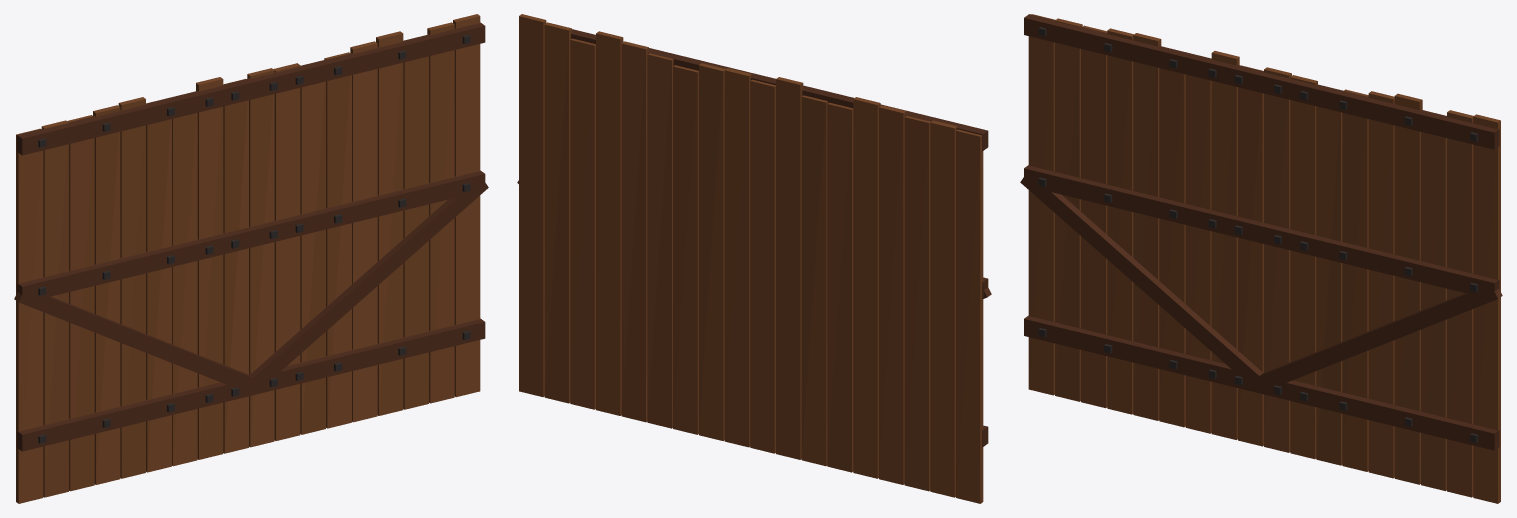
3 views of the same model, side by side, from view 1: azimuth 30°, elevation 25°; view 2: azimuth 150°, elevation 25°; view 3: azimuth 330°, elevation 25° (orthographic).
Visible parts, largest first — view 1: scene.panel.brasscap.gate; view 2: scene.panel.brasscap.gate; view 3: scene.panel.brasscap.gate.
Boxes of the visible parts, x1,y1,x2,y2 form: scene.panel.brasscap.gate: (14, 14, 488, 503); scene.panel.brasscap.gate: (517, 14, 991, 503); scene.panel.brasscap.gate: (1020, 14, 1502, 503).
Bounding box in the file's own units: 7.31 × 5.6 × 0.235.
